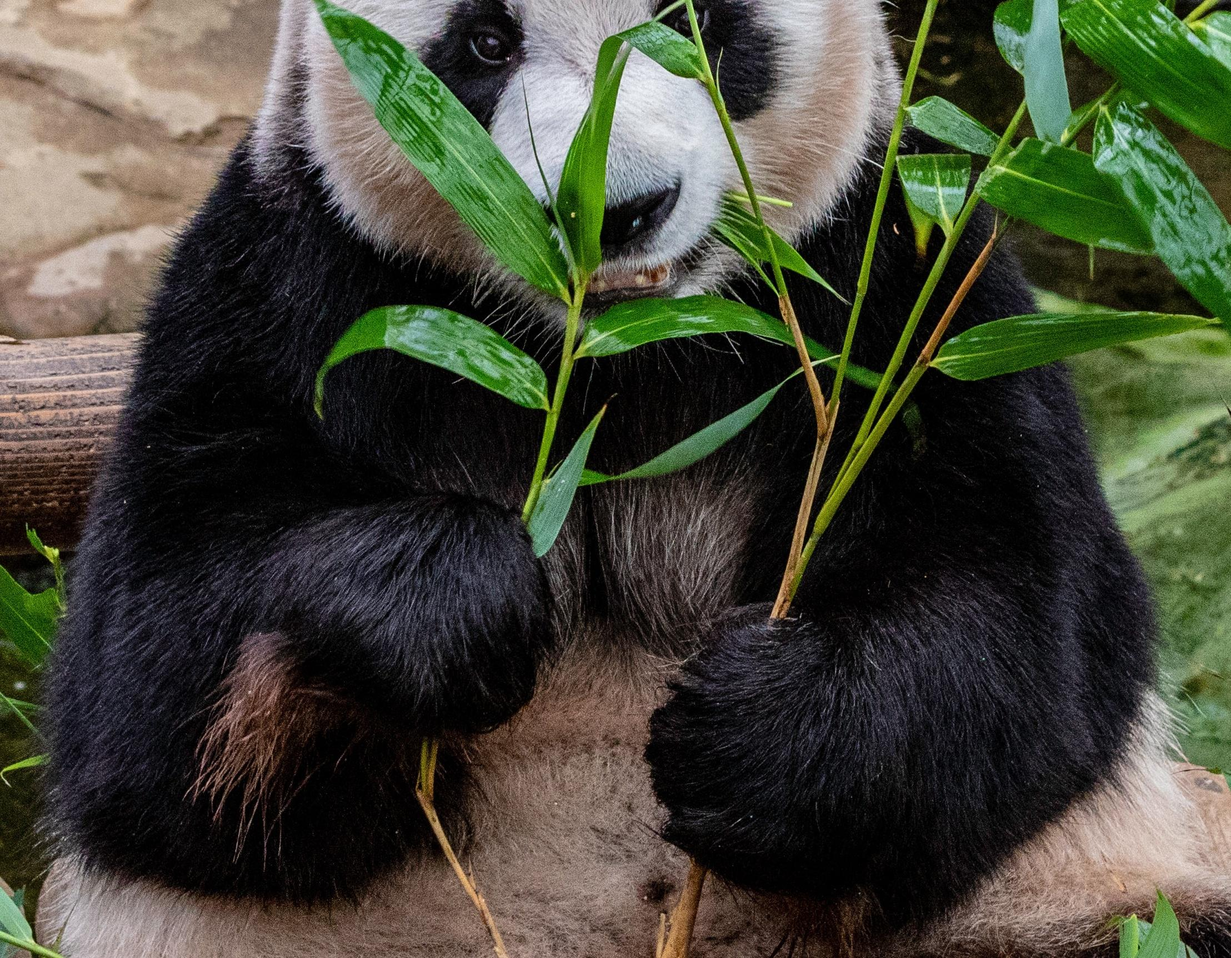panda: (39, 0, 1132, 943)
